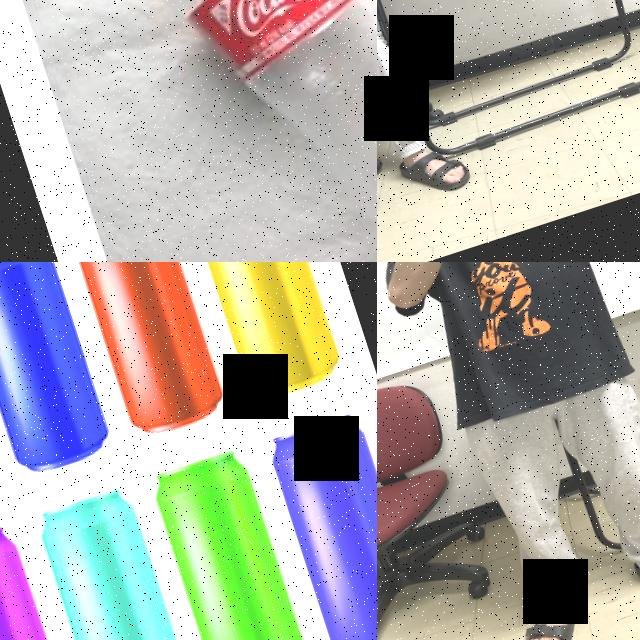bottle: (79, 0, 377, 262)
can: (146, 445, 315, 640), (62, 262, 234, 442), (261, 406, 377, 640), (32, 483, 201, 640), (0, 262, 119, 483), (179, 262, 347, 404), (0, 520, 85, 640)
